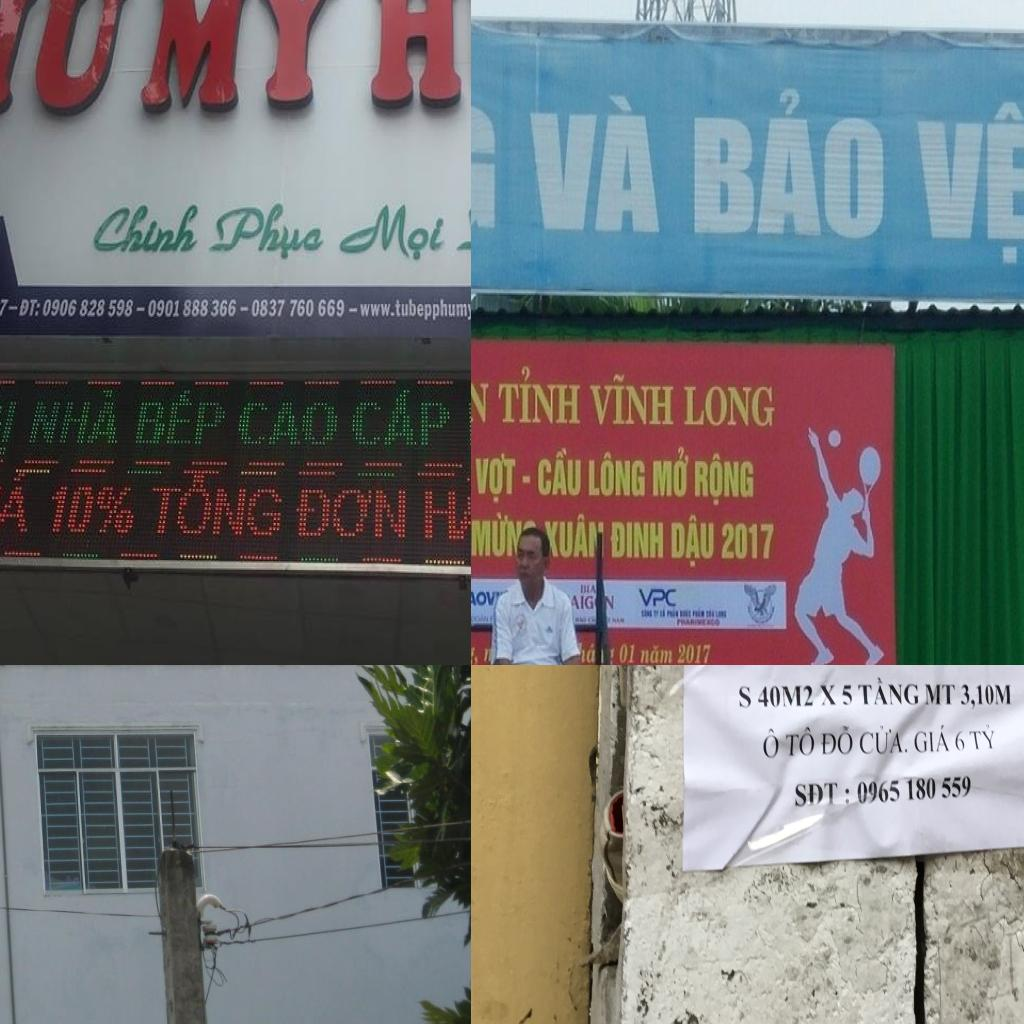text: (680, 78, 890, 250), (134, 0, 360, 132), (514, 82, 670, 246), (900, 88, 1024, 273), (0, 0, 139, 131), (150, 473, 288, 542), (206, 194, 328, 267), (334, 197, 454, 264), (86, 199, 208, 257), (294, 484, 408, 543), (351, 388, 456, 452), (132, 386, 231, 452), (24, 385, 122, 449), (495, 360, 584, 427), (42, 478, 138, 540), (235, 396, 340, 450), (587, 369, 677, 428), (679, 382, 777, 432), (855, 771, 973, 808), (417, 473, 471, 548), (691, 451, 757, 507), (586, 448, 647, 501), (540, 512, 606, 559), (357, 297, 471, 324), (471, 506, 525, 559), (668, 512, 716, 569), (473, 450, 519, 508), (719, 520, 778, 564), (536, 446, 583, 500), (609, 518, 665, 562), (650, 441, 691, 501), (40, 297, 136, 322), (248, 296, 348, 320), (147, 296, 239, 320), (0, 471, 31, 538), (856, 674, 920, 706), (858, 723, 911, 757), (792, 779, 852, 809), (959, 681, 1014, 711), (756, 683, 815, 710), (818, 723, 854, 758), (913, 722, 951, 755), (0, 396, 20, 457), (784, 724, 817, 760), (636, 584, 680, 610), (471, 377, 491, 428), (967, 721, 996, 753), (636, 642, 673, 665), (924, 682, 956, 707), (16, 295, 43, 321), (762, 726, 781, 762), (471, 586, 499, 610), (568, 594, 597, 614), (615, 640, 637, 665), (818, 681, 838, 708), (737, 684, 753, 710), (585, 637, 598, 665), (840, 682, 854, 708), (578, 581, 600, 596), (954, 729, 967, 753), (0, 295, 11, 320), (471, 641, 481, 665)
